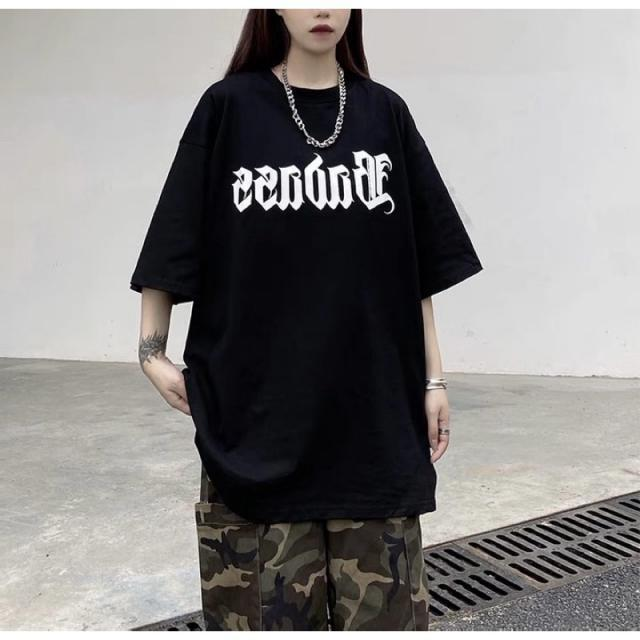short sleeve shirt: (126, 63, 486, 521)
trousers: (192, 466, 442, 639)
